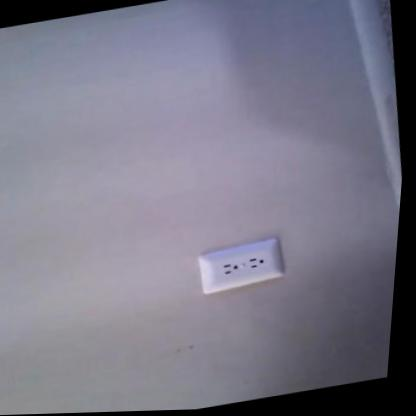OUTLET: (194, 234, 288, 295)
